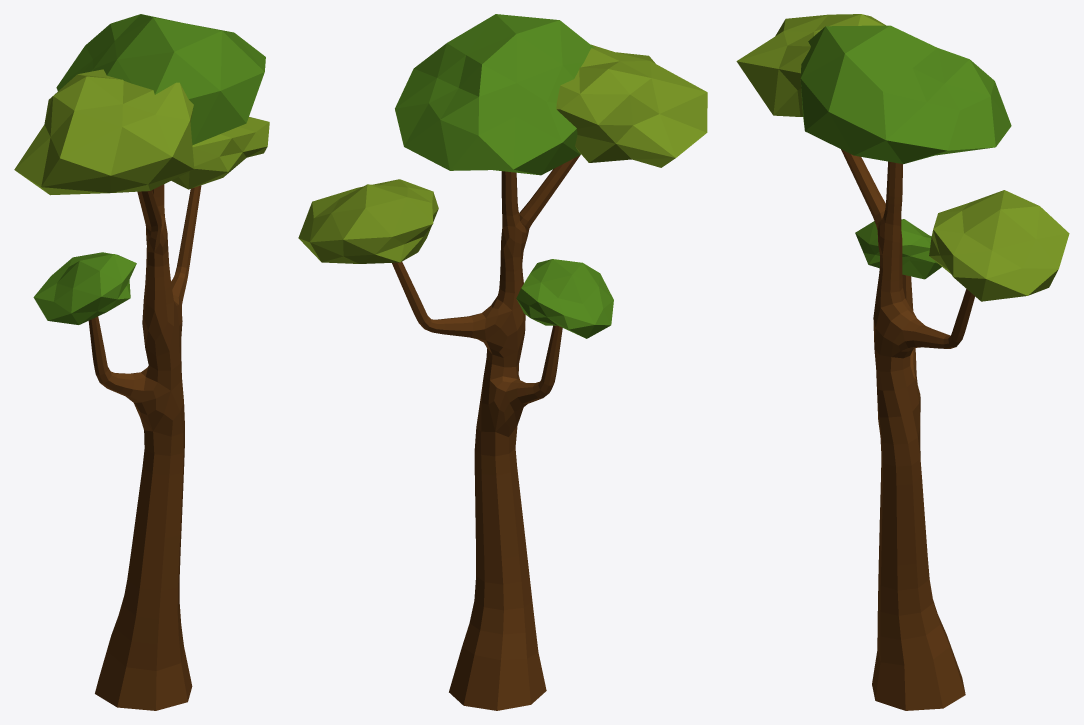
The model's file is NIO_jungleTree4.fbx.
The picture shows the model from 3 angles, left to right: view 1: azimuth 30°, elevation 25°; view 2: azimuth 150°, elevation 25°; view 3: azimuth 270°, elevation 25°; orthographic projection. The views are drawn at different scales.
Visible parts, largest first — view 1: Plane; view 2: Plane; view 3: Plane.
Boxes of the visible parts, left/top/right/bottom form: Plane: left=14, top=14, right=269, bottom=710; Plane: left=298, top=14, right=707, bottom=710; Plane: left=736, top=14, right=1069, bottom=710.
Bounding box in the file's own units: 232 × 472 × 215.
